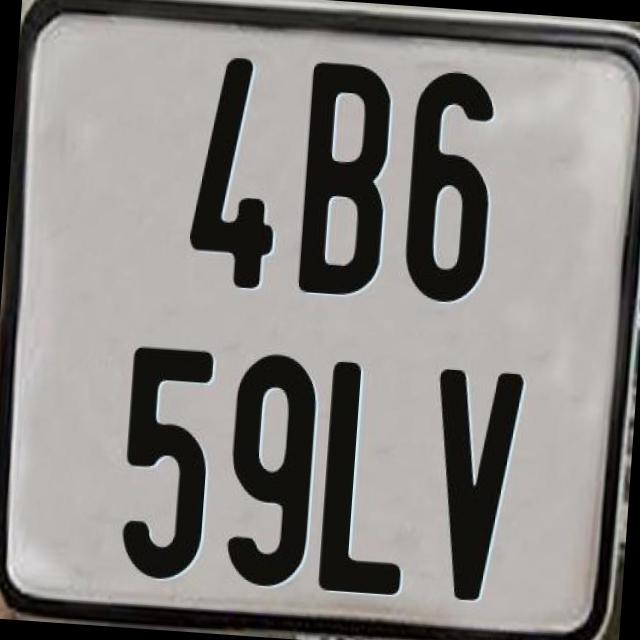4: (186, 51, 286, 291)
5: (118, 340, 222, 580)
6: (400, 67, 494, 306)
9: (220, 348, 322, 588)
B: (292, 61, 391, 303)
L: (314, 356, 418, 590)
V: (423, 365, 526, 609)
